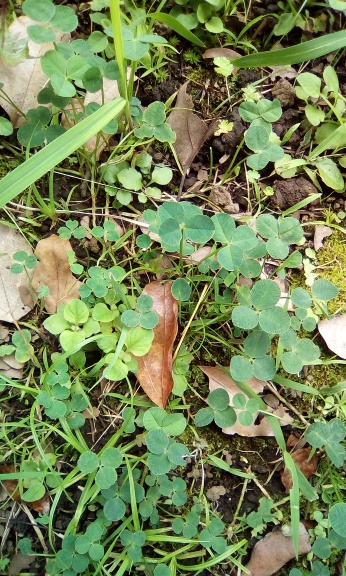4leaf: (157, 200, 217, 246)
